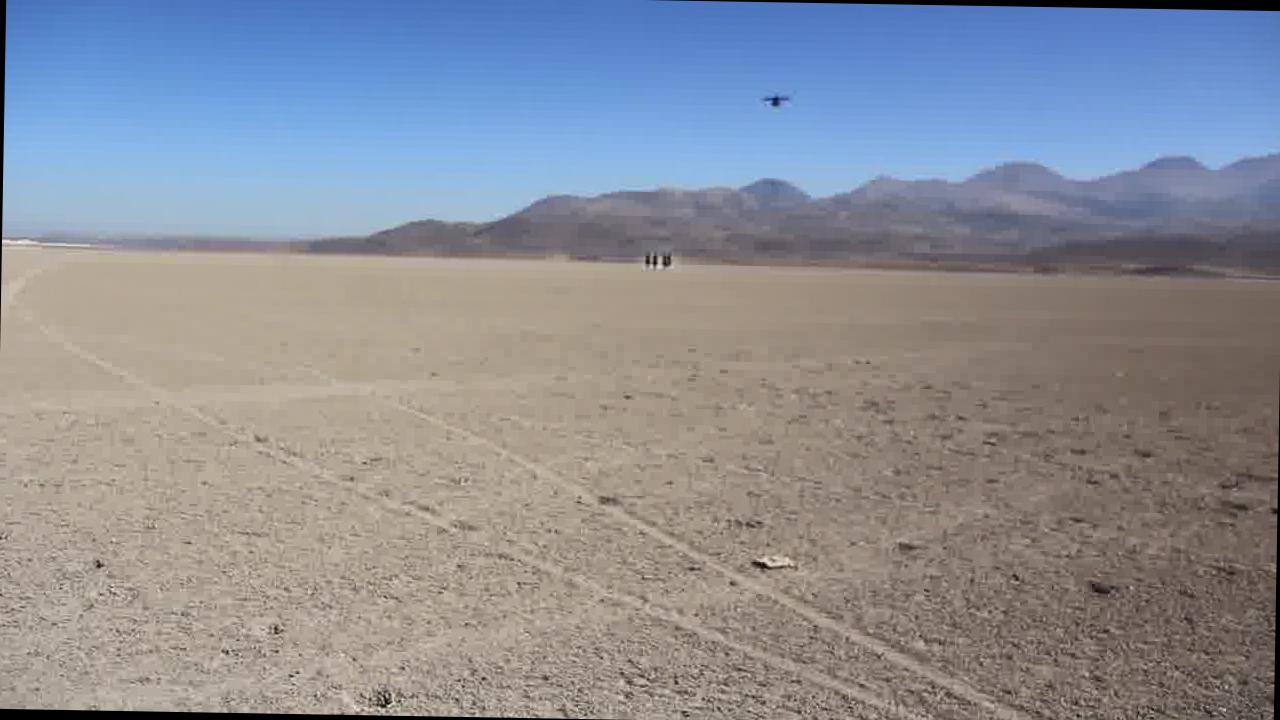drone: (756, 86, 792, 113)
